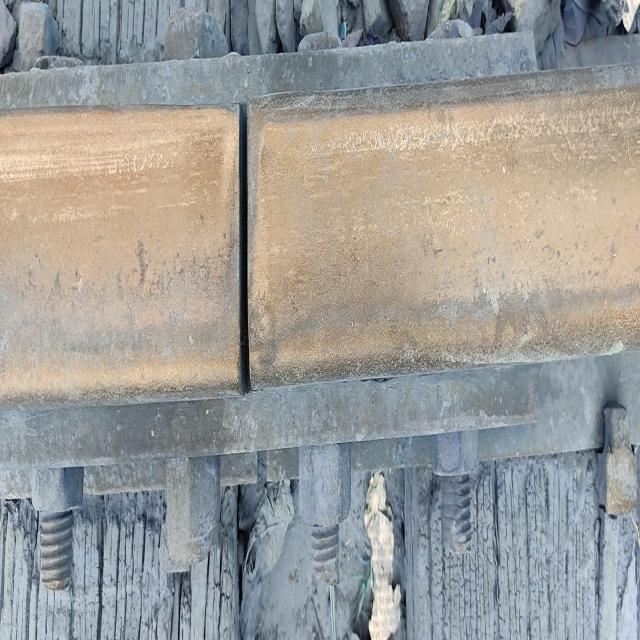Good Joint: (0, 32, 640, 589)
